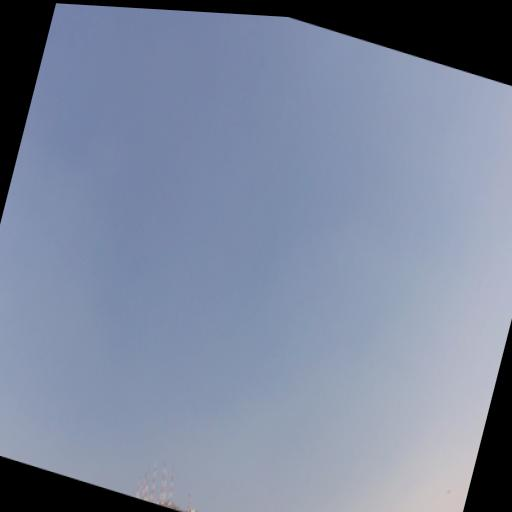drones: (445, 489, 452, 496)
